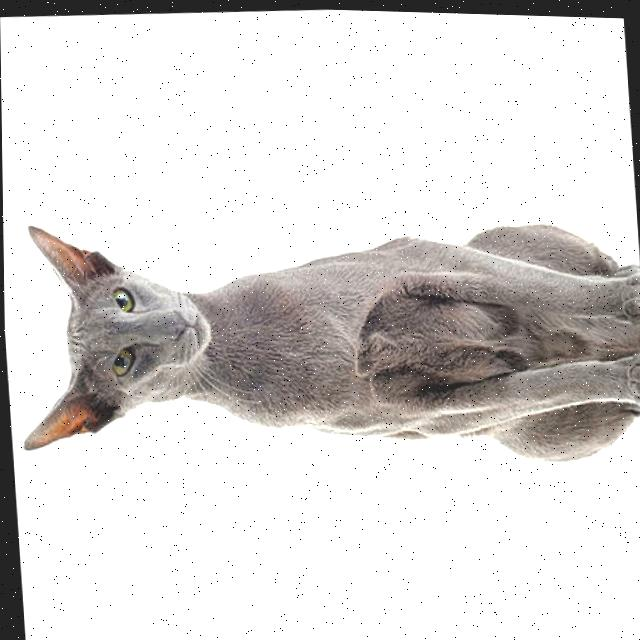Oriental: (2, 188, 640, 494)
